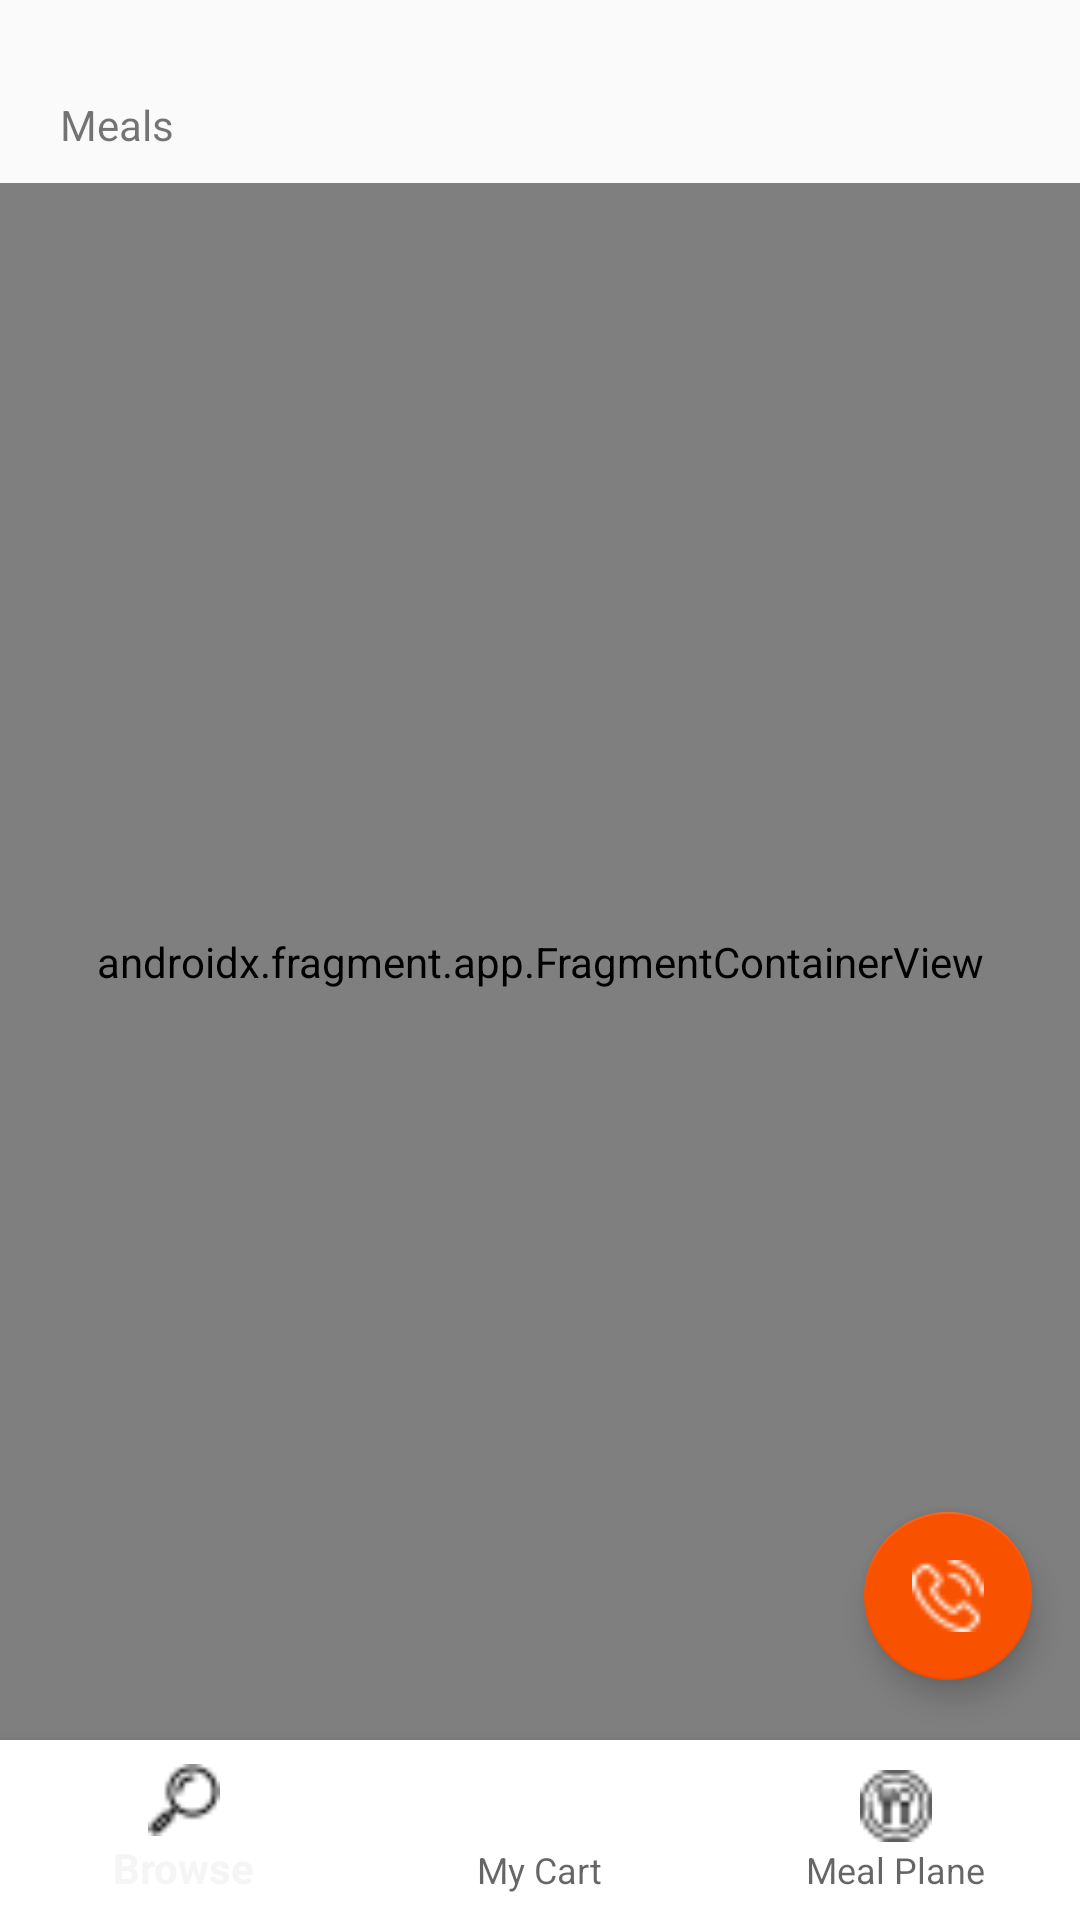

Screen size 1080 × 1920. Icon name, then its box in pixels as (x1, y1, x2, y2):
phone: (864, 1512, 1032, 1680)
